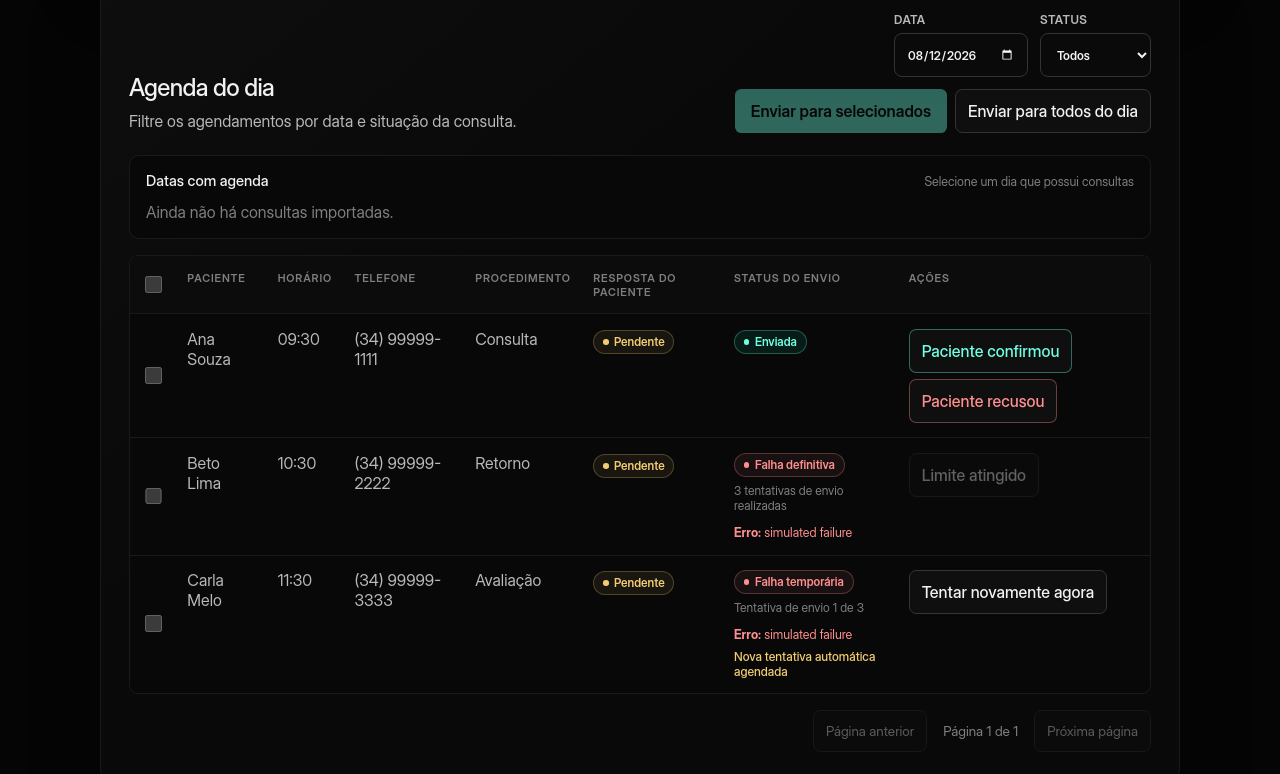
it: records patient response with Paciente recusou
The width and height of the screenshot is (1280, 774).
(page scrolled)
Click the button "Paciente recusou".
click(983, 401)  # box left=909, top=379, right=1057, bottom=423
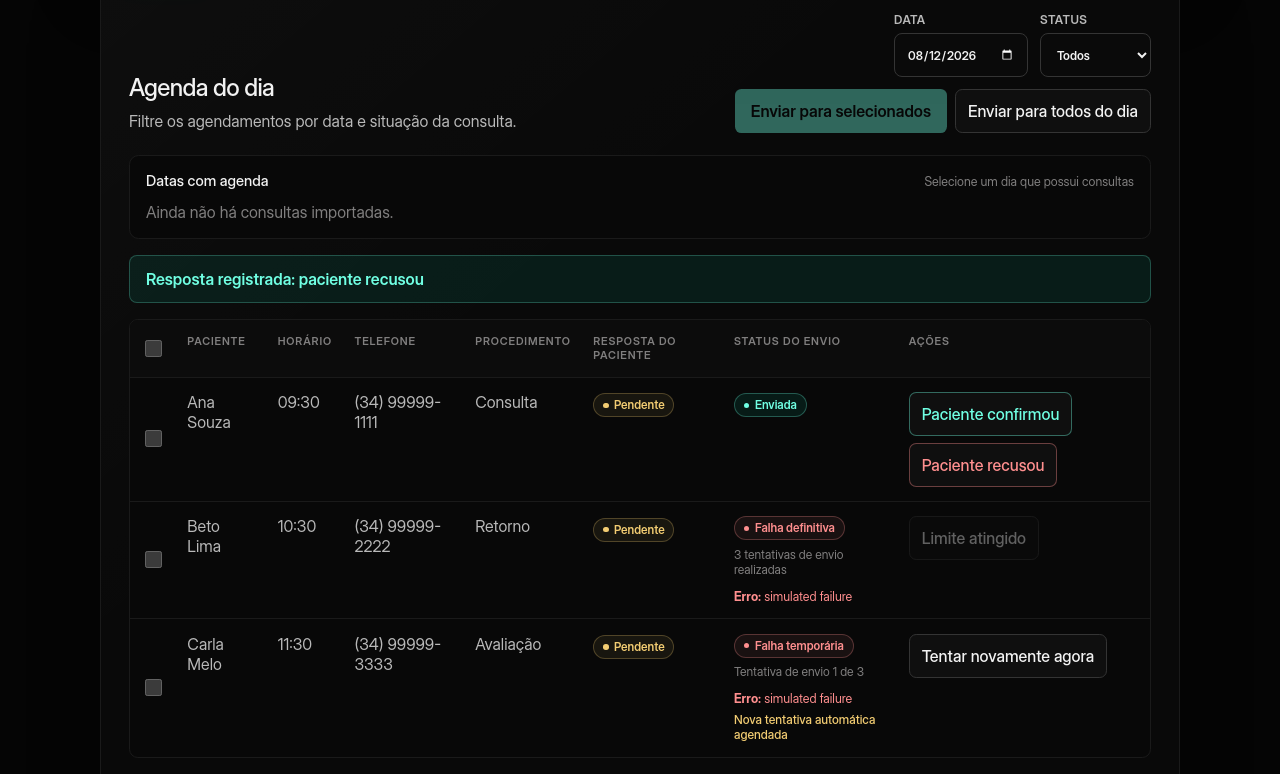
Expected: the text "Resposta registrada: paciente recusou" is shown, left=129, top=255, right=1151, bottom=303
